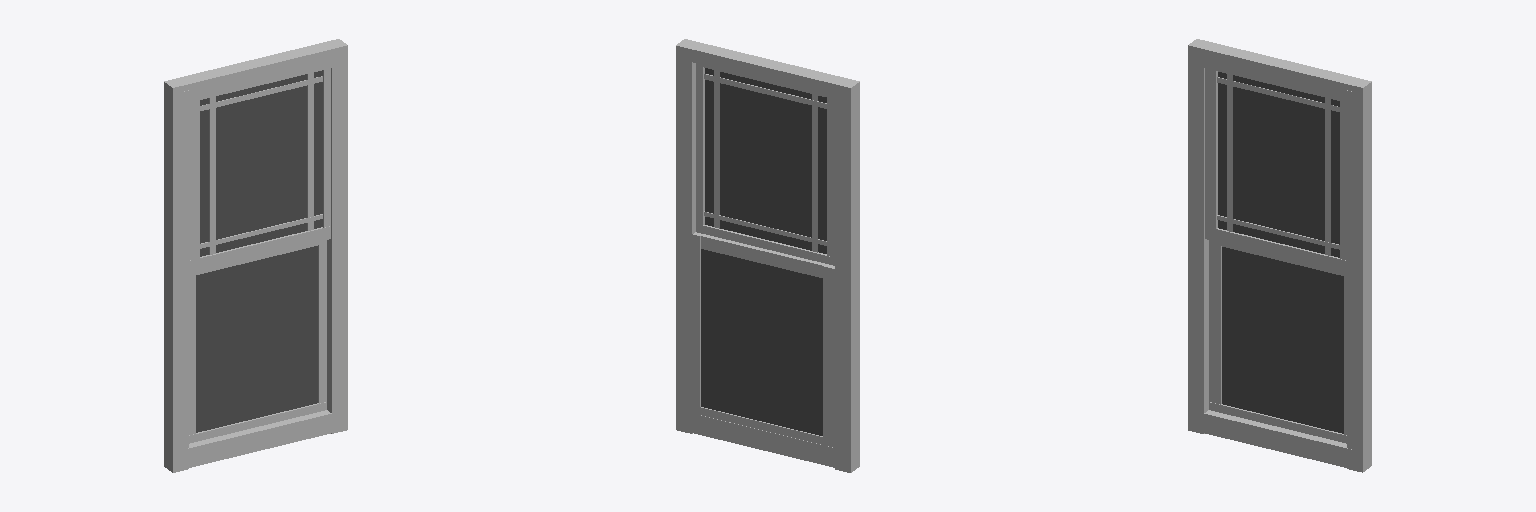
File: fancyWindow.obj
3 views of the same model, side by side, from view 1: azimuth 30°, elevation 25°; view 2: azimuth 150°, elevation 25°; view 3: azimuth 330°, elevation 25° (orthographic).
Visible parts, largest first — view 1: sweethome3d_window_pane_1, sweethome3d_window_pane, Cube_5_4, Cube_5_5, Cube_4_5, Cube_4_4, Cube_4_1, Cube_5, Cube_5_2, Cube_5_1, Cube_4_2, Cube_5_3 (+5 smaller); view 2: sweethome3d_window_pane_1, sweethome3d_window_pane, Cube_5_4, Cube_5_5, Cube_4_4, Cube_4_5, Cube_5_3, Cube_4_3, Cube_5_2, Cube_5_1, Cube_5, Cube_4_1 (+5 smaller); view 3: sweethome3d_window_pane_1, sweethome3d_window_pane, Cube_5_5, Cube_5_4, Cube_4_5, Cube_4_4, Cube_5_3, Cube_5, Cube_4_1, Cube_4_2, Cube_5_1, innerpane4 (+4 smaller).
Part boxes in pixels (bbox=[...]): sweethome3d_window_pane_1: bbox=[196, 246, 317, 432]; sweethome3d_window_pane: bbox=[200, 70, 322, 256]; Cube_5_4: bbox=[164, 90, 188, 472]; Cube_5_5: bbox=[327, 52, 347, 433]; Cube_4_5: bbox=[185, 410, 339, 468]; Cube_4_4: bbox=[164, 39, 347, 100]; Cube_4_1: bbox=[189, 226, 330, 273]; Cube_5: bbox=[189, 100, 199, 260]; Cube_5_2: bbox=[318, 240, 326, 403]; Cube_5_1: bbox=[323, 68, 330, 227]; Cube_4_2: bbox=[189, 402, 326, 443]; Cube_5_3: bbox=[189, 272, 195, 434]; sweethome3d_window_pane_1: bbox=[701, 249, 822, 435]; sweethome3d_window_pane: bbox=[705, 68, 826, 253]; Cube_5_4: bbox=[835, 91, 859, 472]; Cube_5_5: bbox=[676, 58, 695, 433]; Cube_4_4: bbox=[676, 39, 859, 100]; Cube_4_5: bbox=[692, 413, 834, 467]; Cube_5_3: bbox=[823, 264, 834, 447]; Cube_4_3: bbox=[701, 234, 825, 277]; Cube_5_2: bbox=[692, 232, 701, 414]; Cube_5_1: bbox=[696, 63, 704, 233]; Cube_5: bbox=[827, 98, 834, 257]; Cube_4_1: bbox=[703, 225, 834, 265]; sweethome3d_window_pane_1: bbox=[1222, 247, 1343, 433]; sweethome3d_window_pane: bbox=[1218, 72, 1339, 257]; Cube_5_5: bbox=[1347, 90, 1371, 472]; Cube_5_4: bbox=[1188, 52, 1208, 433]; Cube_4_5: bbox=[1200, 410, 1354, 469]; Cube_4_4: bbox=[1188, 39, 1371, 100]; Cube_5_3: bbox=[1209, 240, 1221, 404]; Cube_5: bbox=[1205, 68, 1217, 228]; Cube_4_1: bbox=[1205, 226, 1346, 273]; Cube_4_2: bbox=[1209, 402, 1346, 443]; Cube_5_1: bbox=[1340, 101, 1346, 260]; innerpane4: bbox=[1227, 74, 1232, 231].
Bounding box in the file's own units: 3.67 × 7.71 × 0.3368.